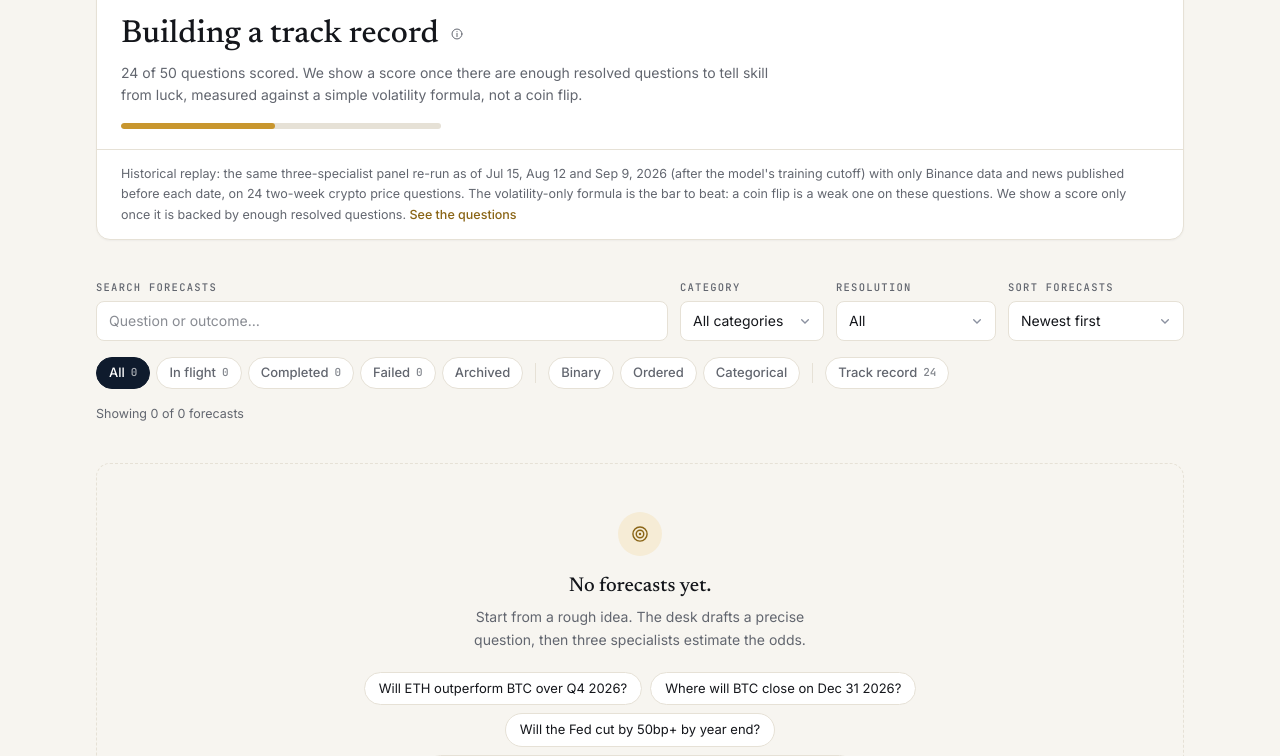
it: ForecastsPage › keeps archived forecasts accessible when the active workspace is empty
(page scrolled)
Expected: the heading "No forecasts yet." is shown, x1=569 y1=572 x2=711 y2=600
Click the button "Archived" at (482, 373), box x1=442 y1=357 x2=523 y2=389
(page scrolled)
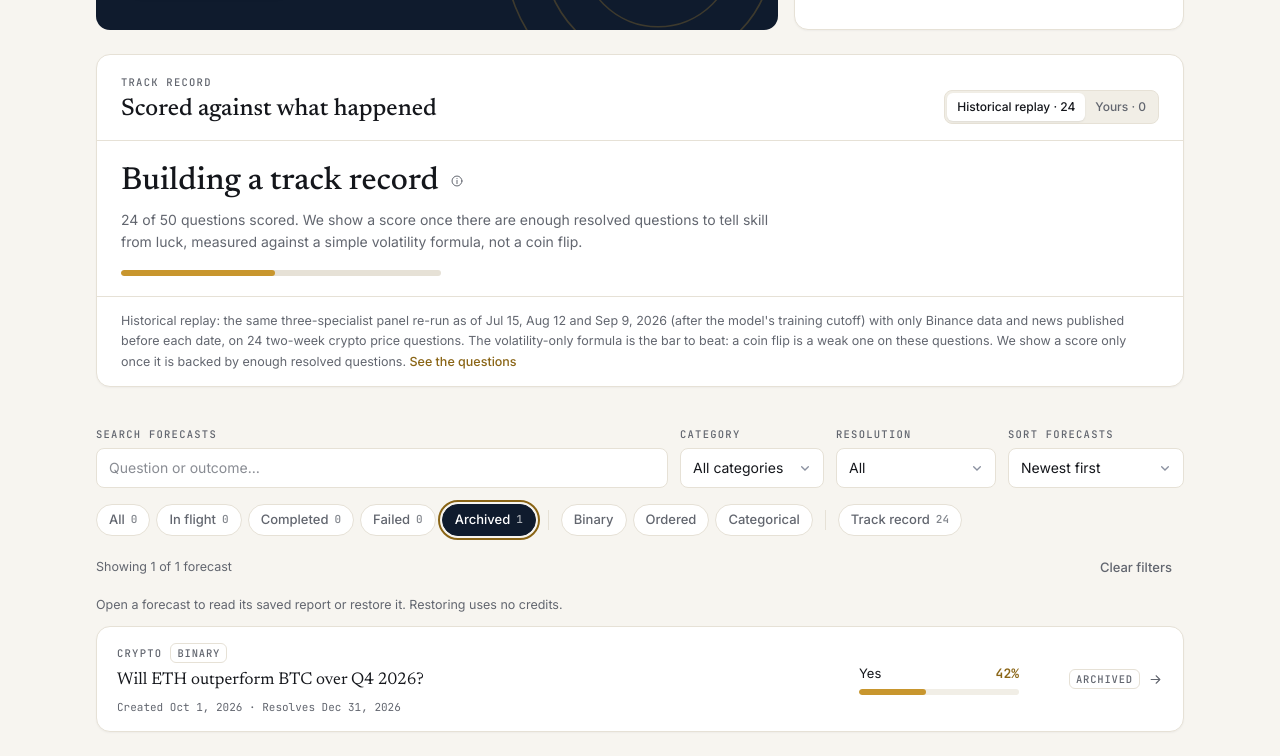
Result: the link "Will ETH outperform BTC" shows "Archived" at x1=97 y1=628 x2=1183 y2=731
Result: the link "Will ETH outperform BTC" shows "42%" at x1=97 y1=628 x2=1183 y2=731
Result: the heading "No forecasts yet." is gone
Click the button "All 0" at (123, 520), box x1=96 y1=504 x2=150 y2=536
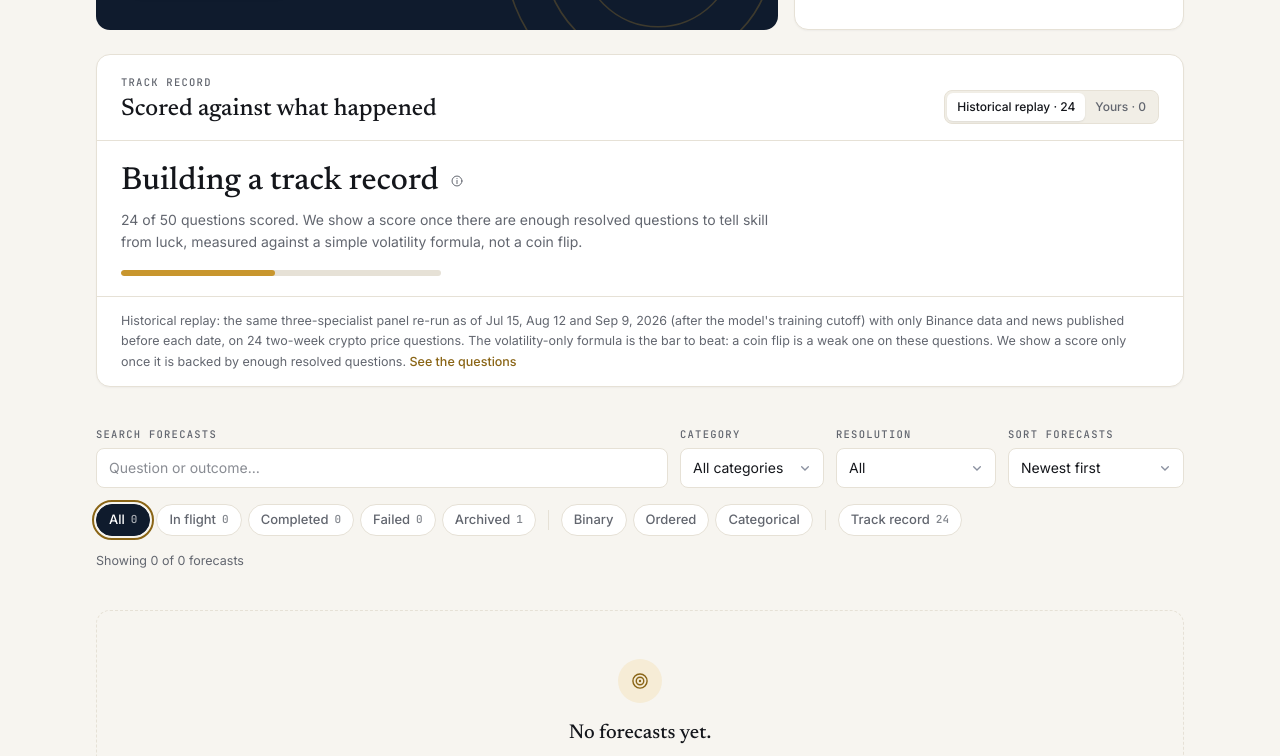
Result: the heading "No forecasts yet." is shown at x1=569 y1=720 x2=711 y2=748
